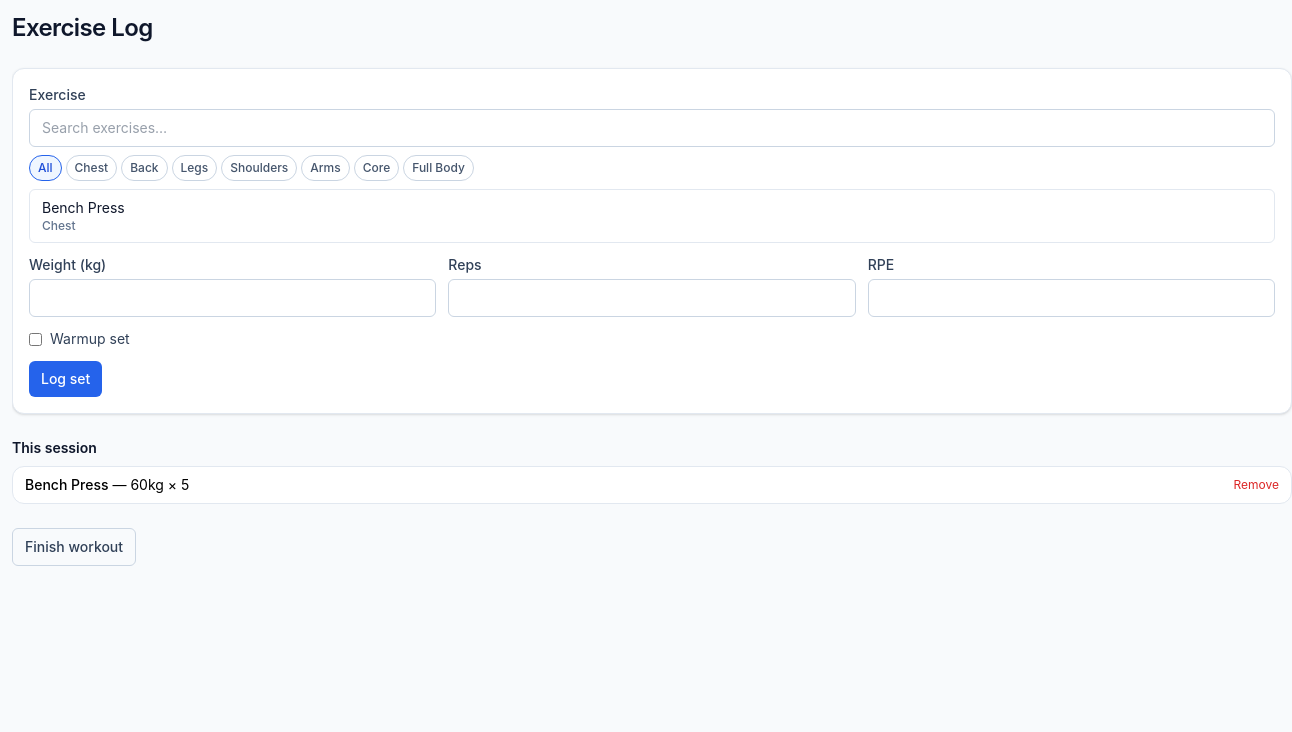
Scenario: ExerciseLogView › removes a logged set
Expected: the text "No sets logged yet." is not shown
Click the button "Remove" at [1256, 485], box [1234, 477, 1279, 493]
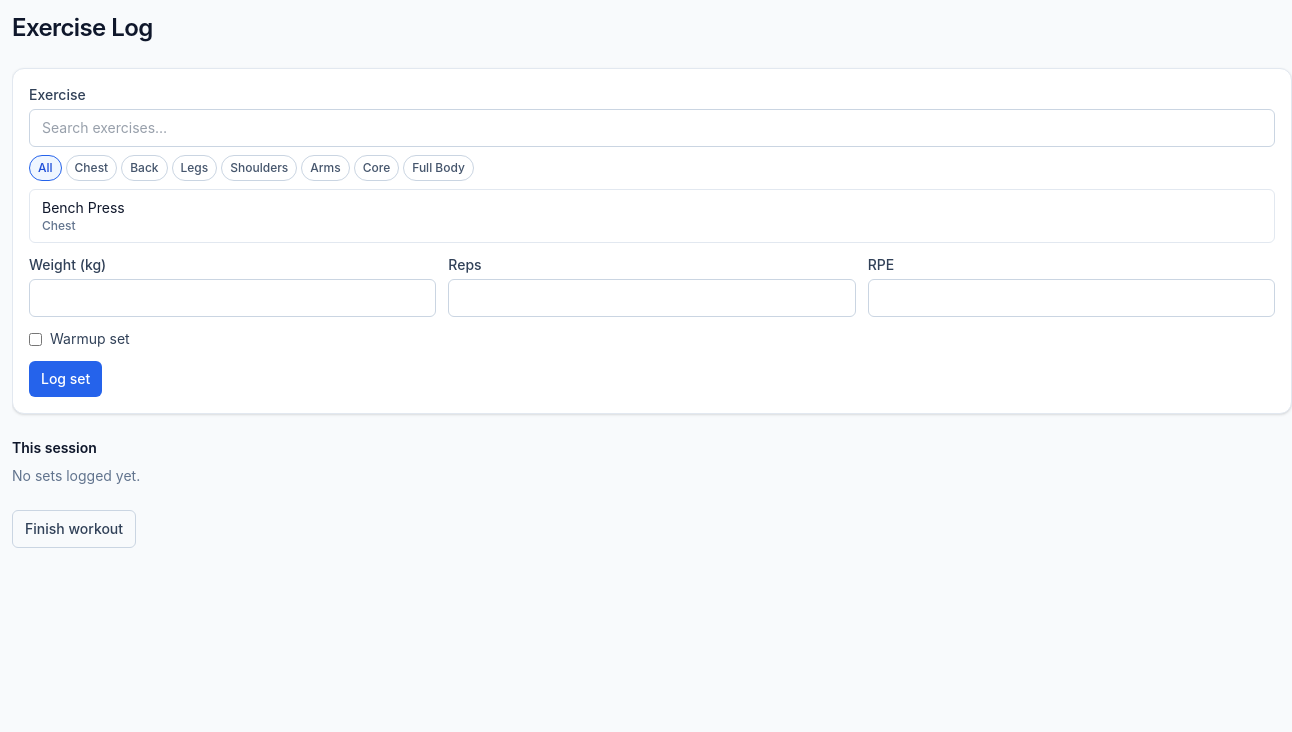
Expected: the text "No sets logged yet." is shown, [12, 467, 140, 484]
